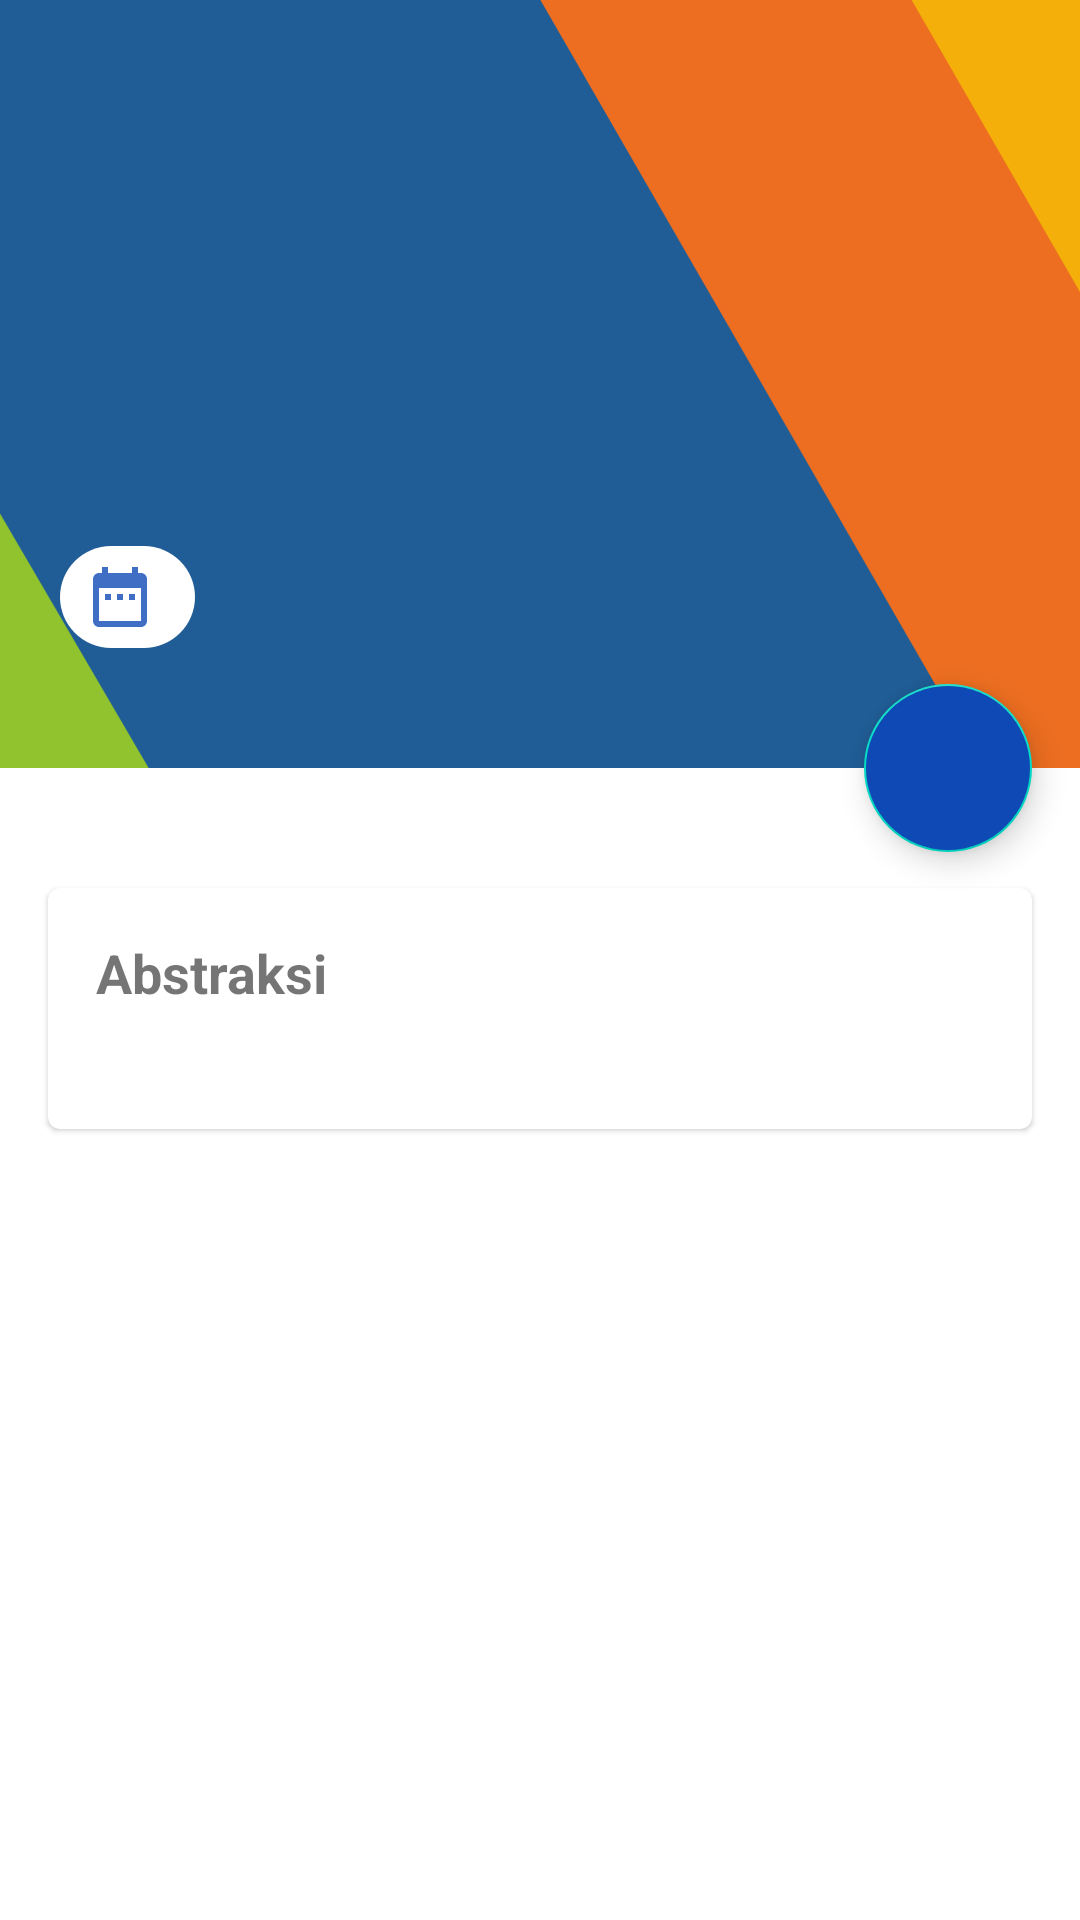

Named icons in this screenshot (1080*1920) and their bounding boxes, (x1, y1, x2, y2):
date: (93, 567, 147, 627)
